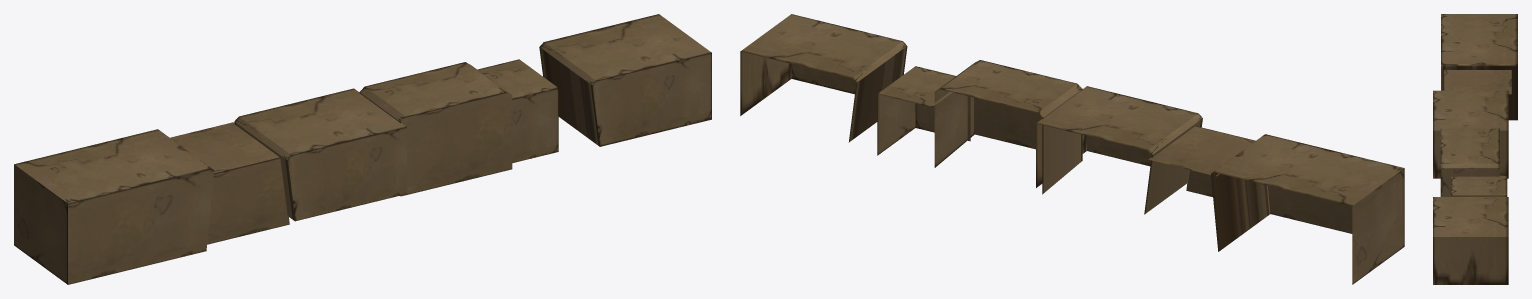
The model's file is 2_DG_QiangPeiJian_01.FBX.
The picture shows the model from 3 angles, left to right: view 1: azimuth 30°, elevation 25°; view 2: azimuth 150°, elevation 25°; view 3: azimuth 270°, elevation 25°; orthographic projection. The views are drawn at different scales.
Visible parts, largest first — view 1: 2_DG_QiangPeiJian_01_01, 2_DG_QiangPeiJian_01_02; view 2: 2_DG_QiangPeiJian_01_01, 2_DG_QiangPeiJian_01_02; view 3: 2_DG_QiangPeiJian_01_01, 2_DG_QiangPeiJian_01_02.
Part boxes in pixels (left/top/right/bottom): 2_DG_QiangPeiJian_01_01: left=14, top=59, right=558, bottom=284; 2_DG_QiangPeiJian_01_02: left=539, top=14, right=711, bottom=146; 2_DG_QiangPeiJian_01_01: left=877, top=60, right=1404, bottom=284; 2_DG_QiangPeiJian_01_02: left=740, top=14, right=907, bottom=142; 2_DG_QiangPeiJian_01_01: left=1433, top=14, right=1517, bottom=196; 2_DG_QiangPeiJian_01_02: left=1433, top=197, right=1508, bottom=284.
Size of the model in its own units: 1192 by 153 by 192.
